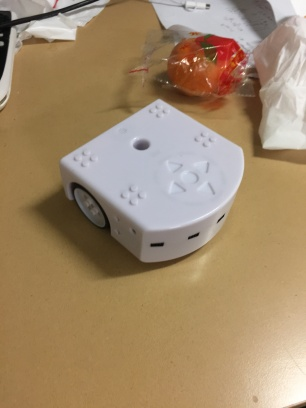thymio: (54, 97, 263, 266)
